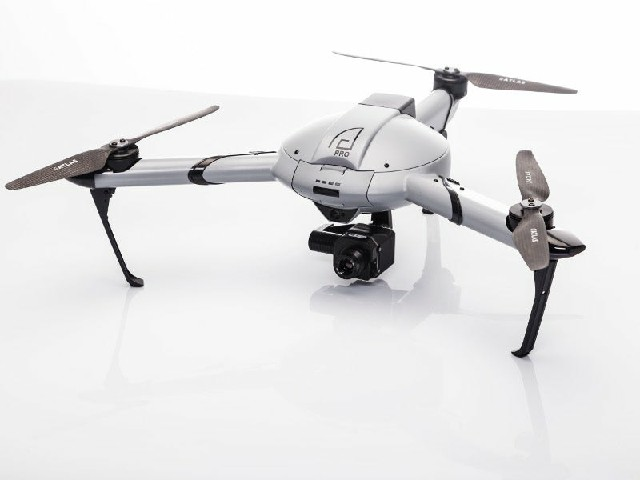maybay_khongnguoilai: (16, 56, 576, 356)
